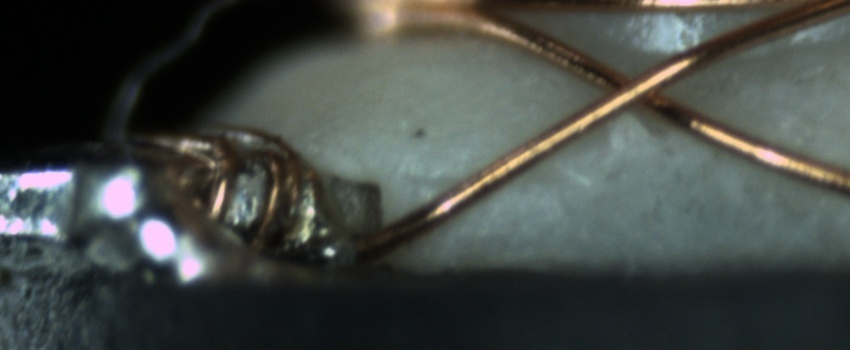CL: (578, 51, 694, 124)
DL: (407, 157, 569, 215)
TE: (140, 116, 329, 243)
